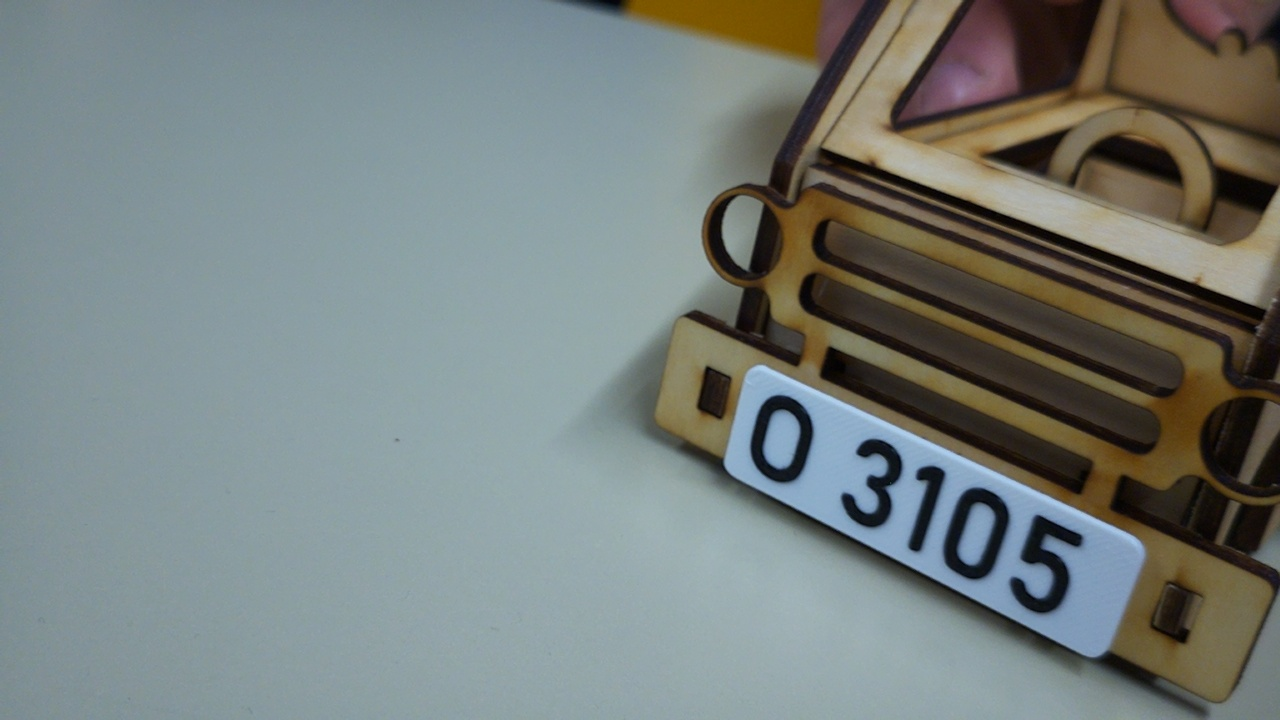license_plate: (722, 362, 1151, 662)
